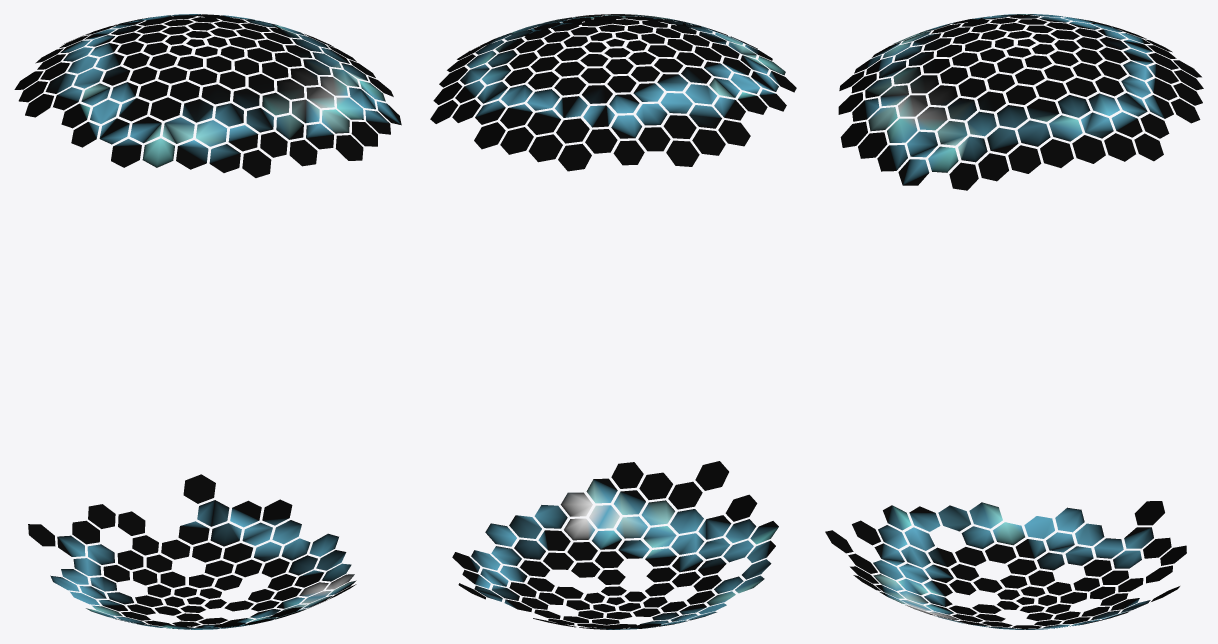
Rendered from uv_ice.fbx.
3 renders of one model, left to right at view 1: azimuth 30°, elevation 25°; view 2: azimuth 150°, elevation 25°; view 3: azimuth 270°, elevation 25°, orthographic.
Parts seen in each view (by area): view 1: uv_ice; view 2: uv_ice; view 3: uv_ice.
Part boxes in pixels (bbox=[...]): uv_ice: bbox=[14, 14, 401, 629]; uv_ice: bbox=[430, 14, 796, 629]; uv_ice: bbox=[825, 14, 1203, 629].
Size of the model in its own units: 118 by 199 by 123.
